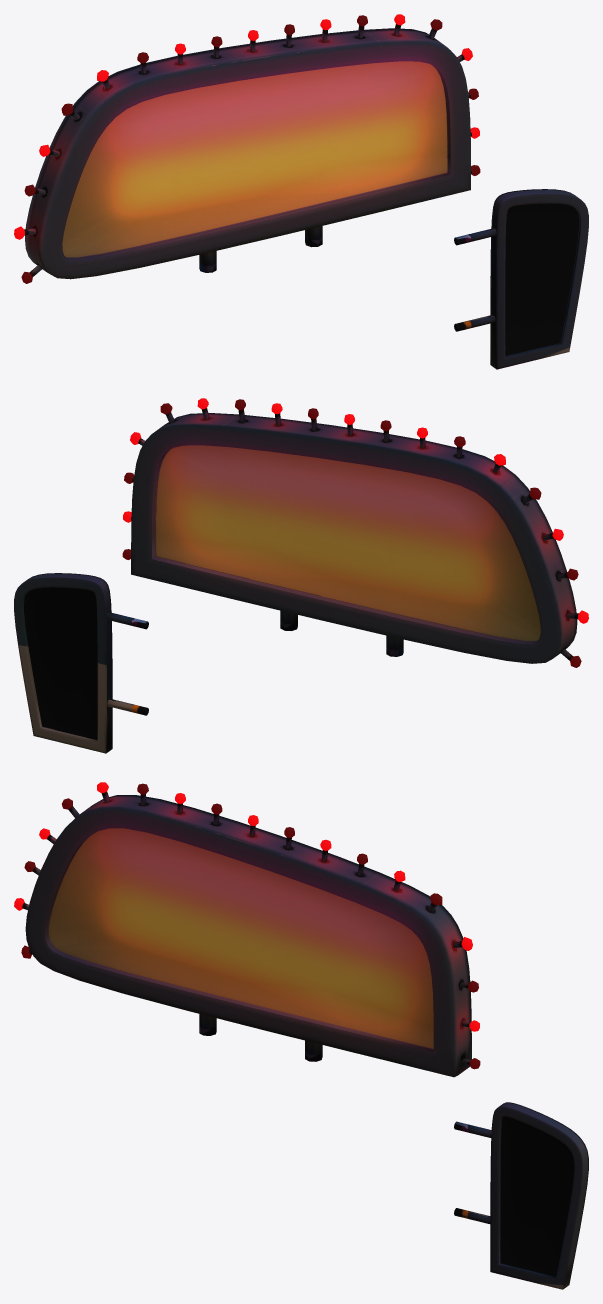
The model's file is sign2.glb.
3 renders of one model, top to bottom at view 1: azimuth 30°, elevation 25°; view 2: azimuth 150°, elevation 25°; view 3: azimuth 330°, elevation 25°, orthographic.
Parts seen in each view (by area): view 1: Sign Small; view 2: Sign Small; view 3: Sign Small.
Boxes of the visible parts, x1=… form: Sign Small: x1=14, y1=14, x2=588, y2=369; Sign Small: x1=14, y1=398, x2=588, y2=753; Sign Small: x1=14, y1=782, x2=588, y2=1289.
Size of the model in its own units: 3.3 by 2.21 by 0.175.
Materials: 3 (1 with a texture image).
